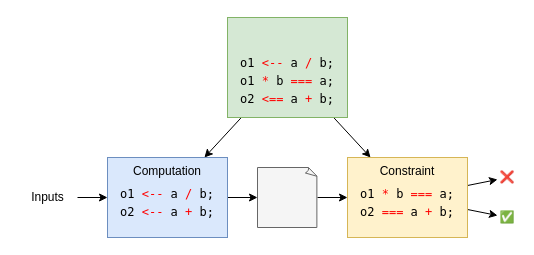
Image size: 534x255. Some labels were removed from this diagram. Here are the shapes that lost their labels. From the top down, the box of each, then its label:
(226, 16, 348, 118): Circuit
(256, 166, 318, 228): Witness
